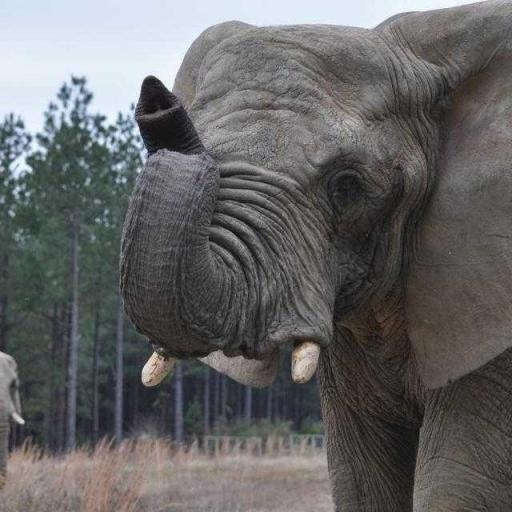Elephant: (118, 0, 512, 511), (0, 350, 26, 490)
